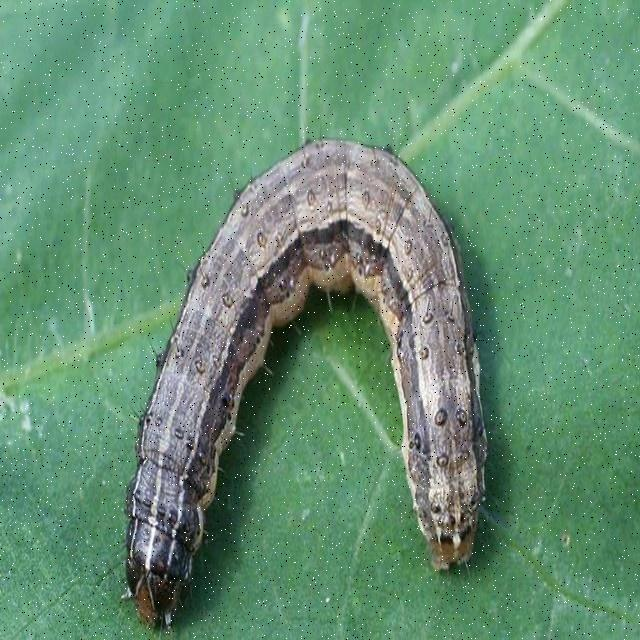worm: (121, 139, 490, 638)
